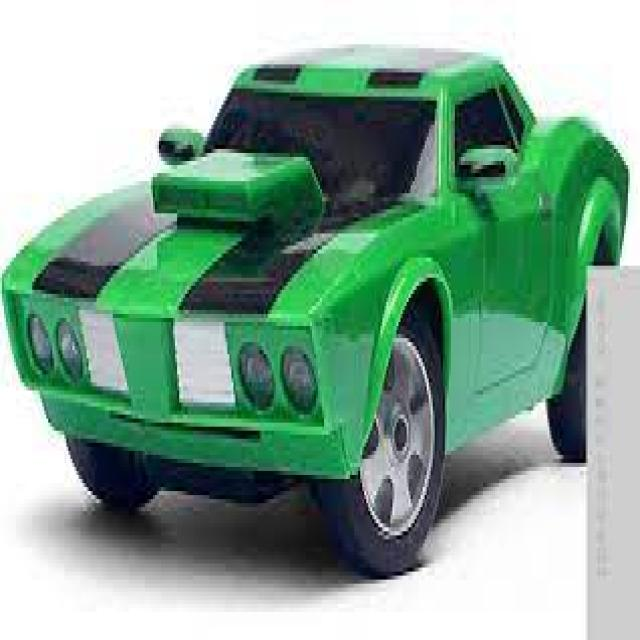Car: (2, 52, 626, 572)
